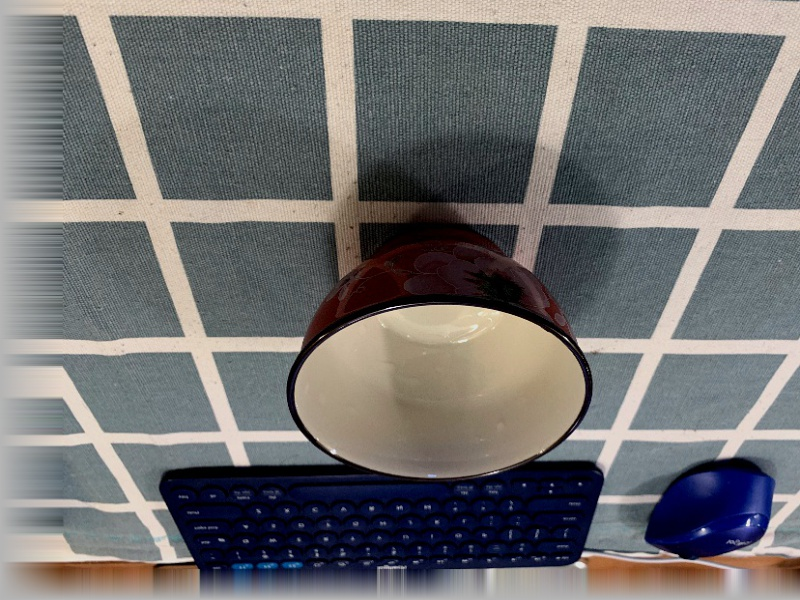bowl_small: (282, 216, 601, 487)
